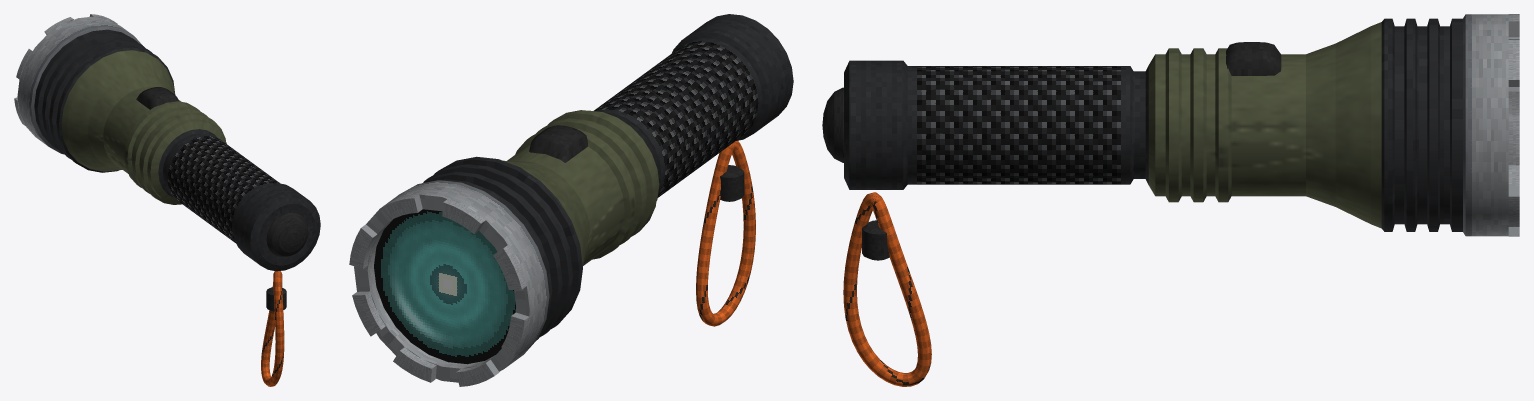
The model's file is tracking_lamp_3d.obj.
3 renders of one model, left to right at view 1: azimuth 30°, elevation 25°; view 2: azimuth 150°, elevation 25°; view 3: azimuth 270°, elevation 25°, orthographic. The views are drawn at different scales.
Parts seen in each view (by area): view 1: tracking_lamp; view 2: tracking_lamp; view 3: tracking_lamp.
Part boxes in pixels (x1,y1,x2,y2): tracking_lamp: (14, 14, 320, 386); tracking_lamp: (349, 14, 793, 386); tracking_lamp: (822, 14, 1519, 386).
Bounding box in the file's own units: 0.2575 × 0.4613 × 0.8062.
